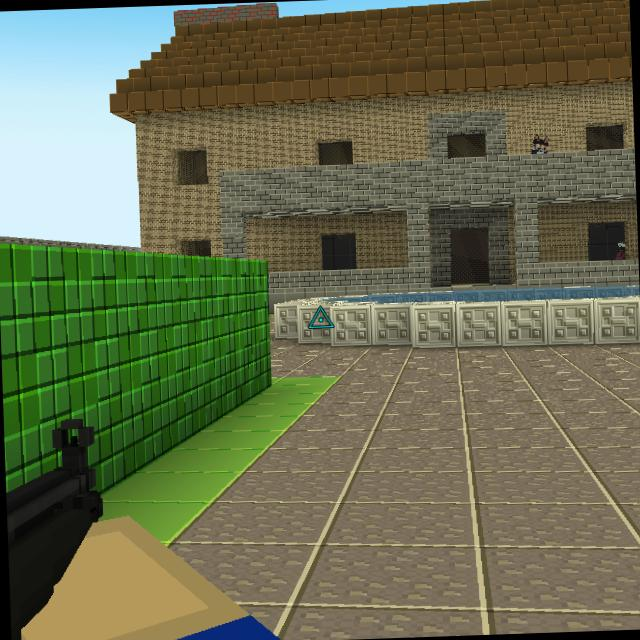enemy: (528, 133, 551, 154), (615, 240, 627, 260)
